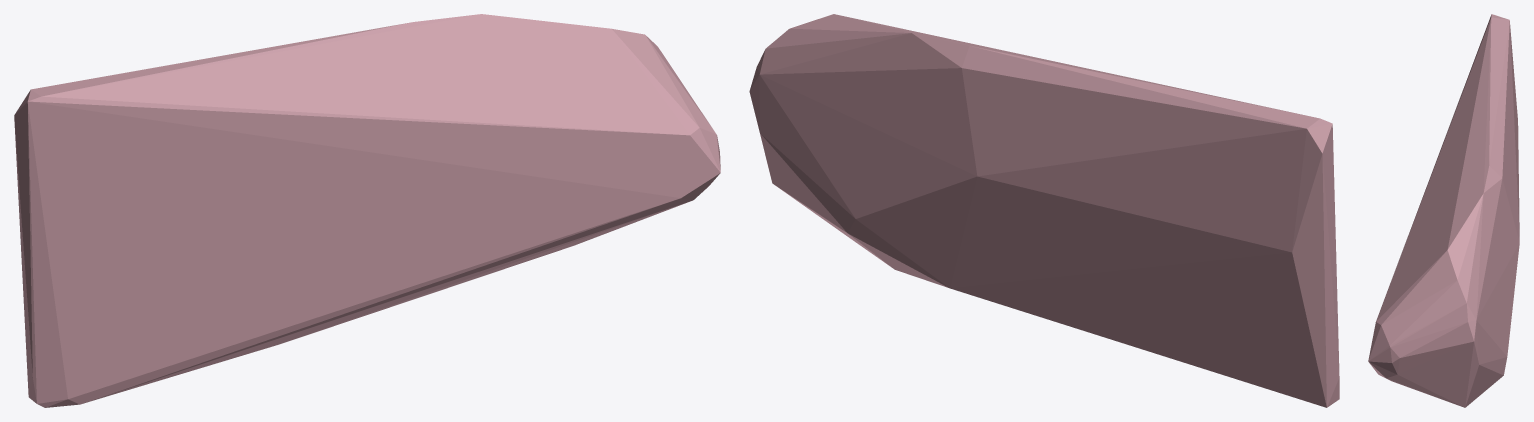
File: paint_container_tube_b01.glb
3 views of the same model, side by side, from view 1: azimuth 30°, elevation 25°; view 2: azimuth 150°, elevation 25°; view 3: azimuth 270°, elevation 25° (orthographic). The views are drawn at different scales.
Visible parts, largest first — view 1: geometry_0; view 2: geometry_0; view 3: geometry_0.
Boxes of the visible parts, bbox=[...] form: geometry_0: bbox=[14, 14, 720, 407]; geometry_0: bbox=[749, 14, 1339, 407]; geometry_0: bbox=[1368, 14, 1519, 407].
Size of the model in its own units: 0.4743 by 0.2185 by 0.1308.
